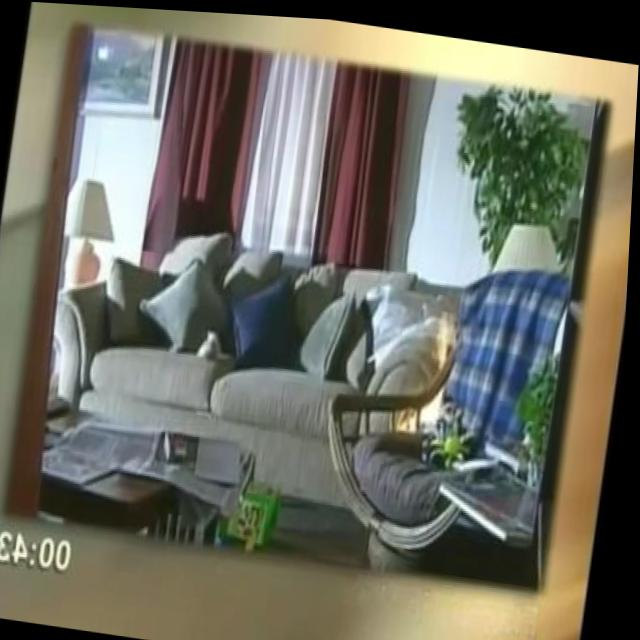fire: (405, 303, 459, 430)
